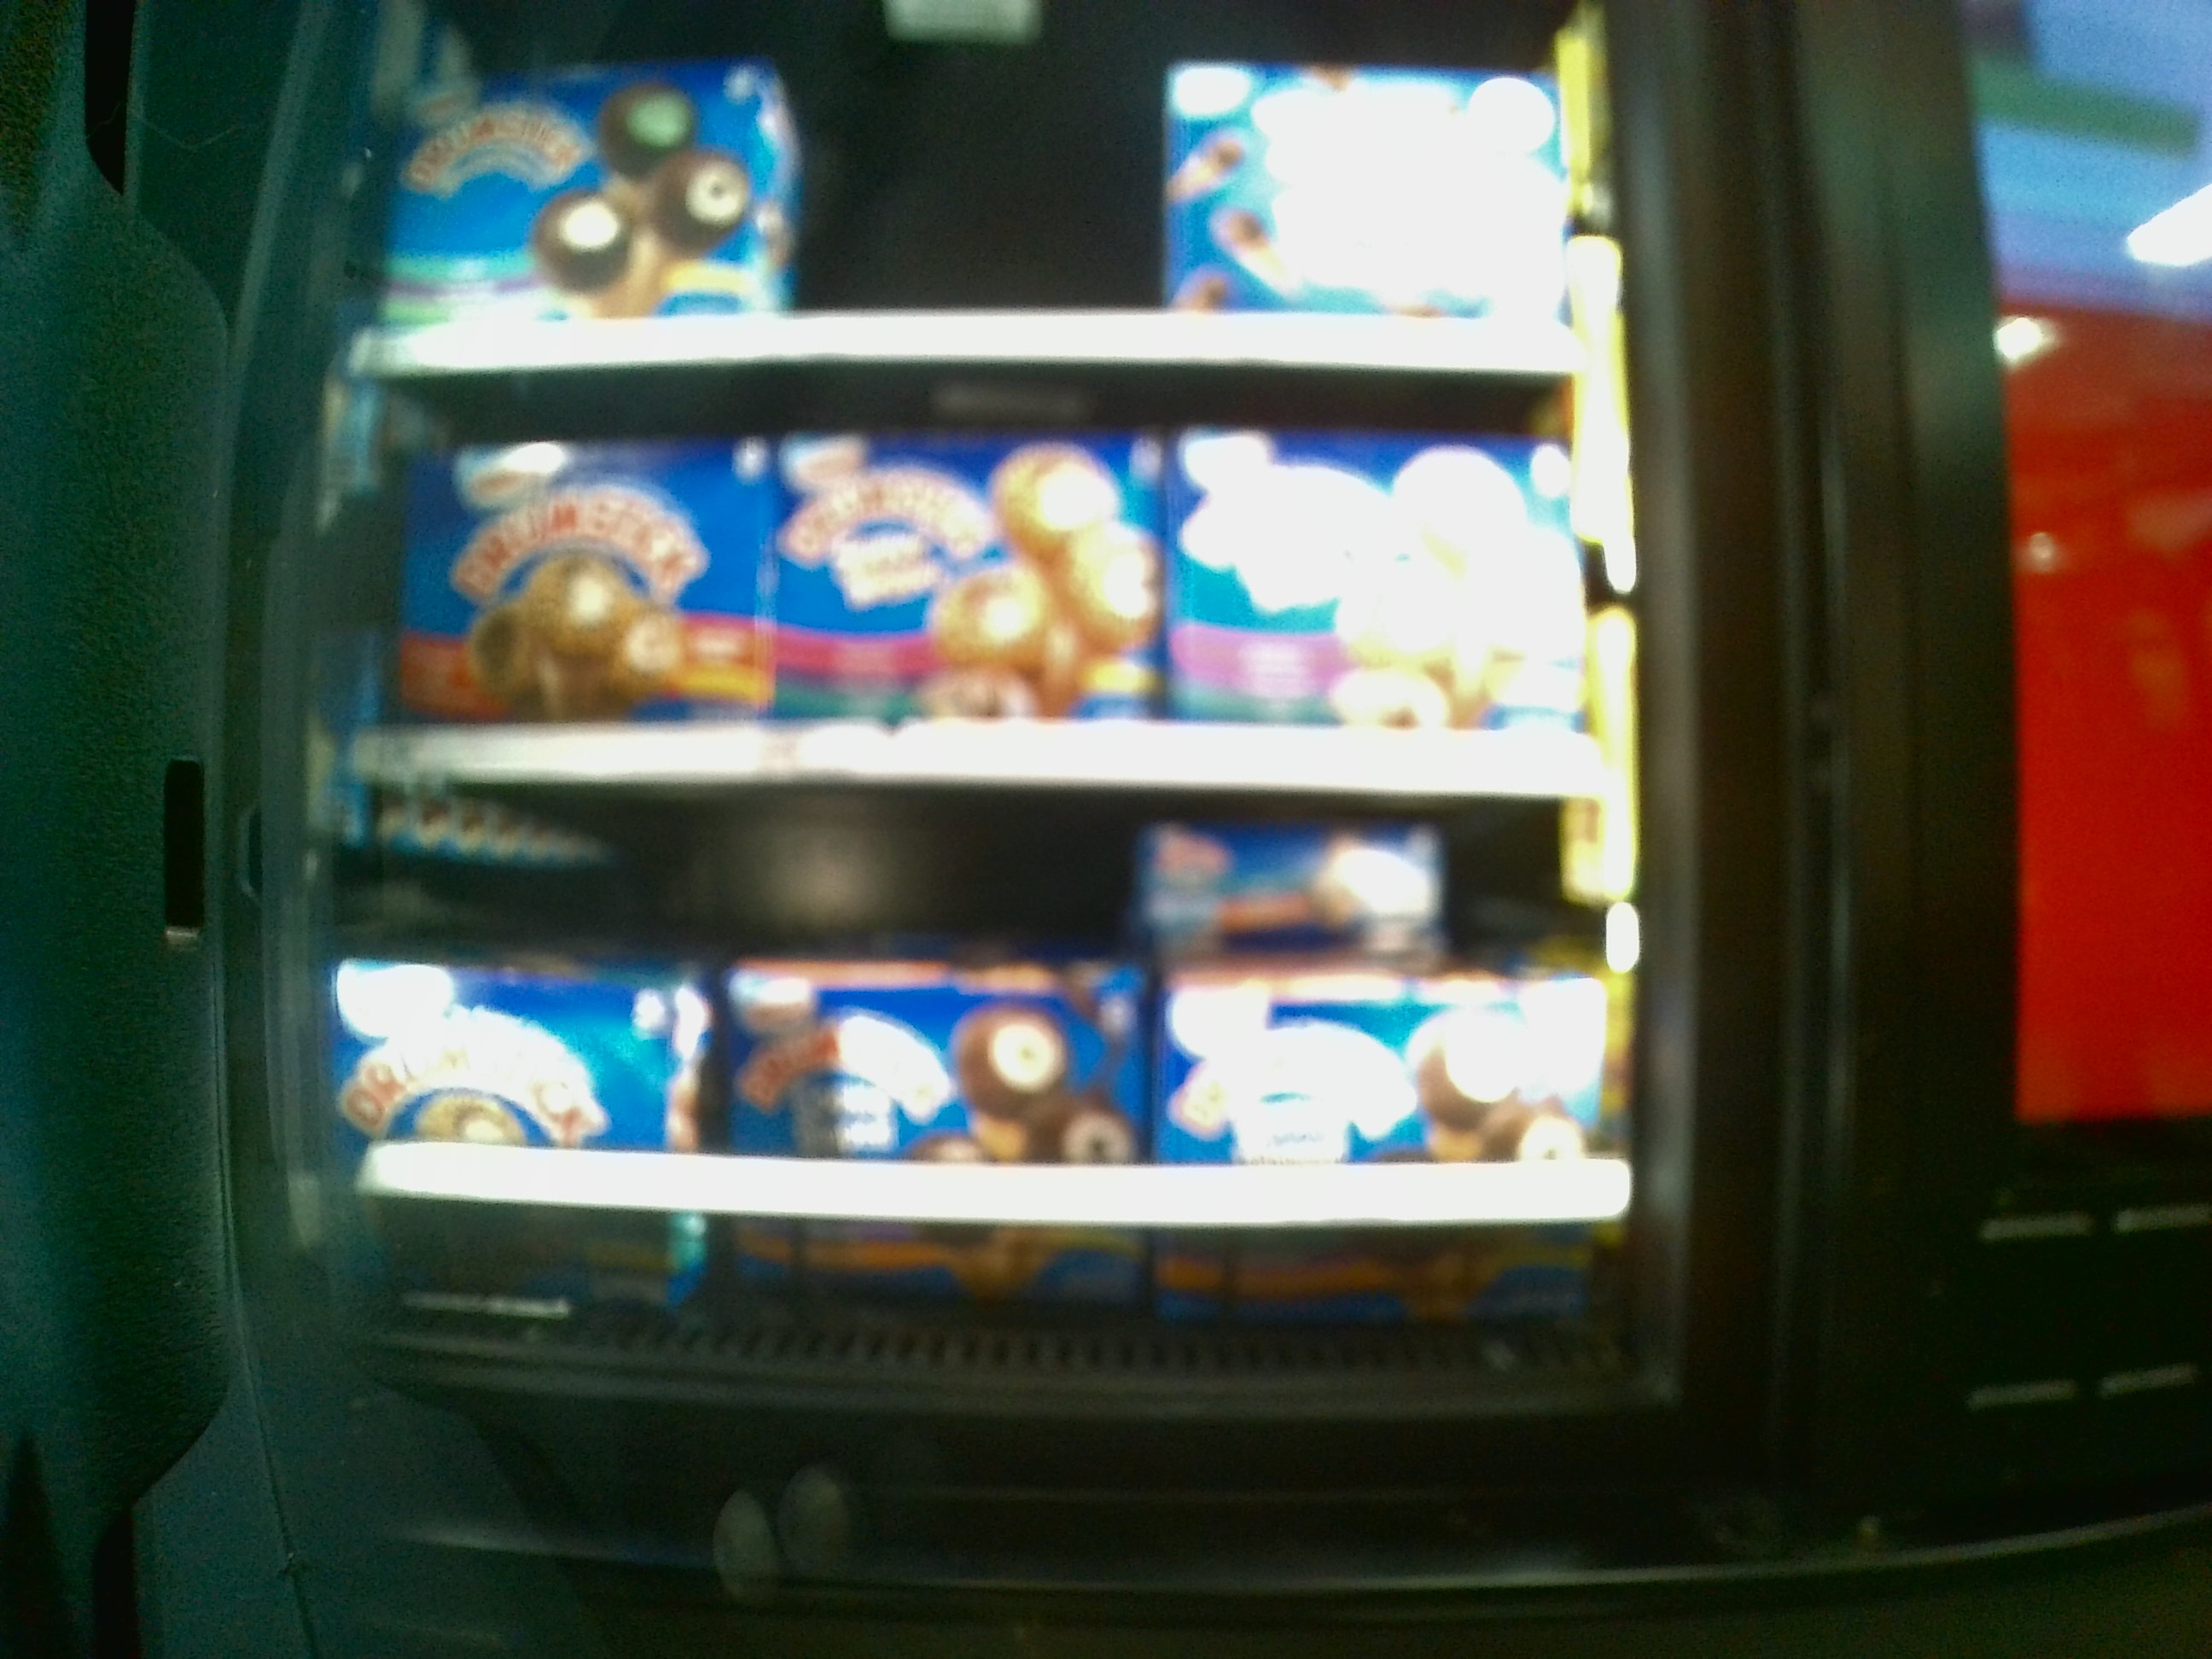shelf: (373, 796, 1608, 1340), (355, 387, 1606, 798)
